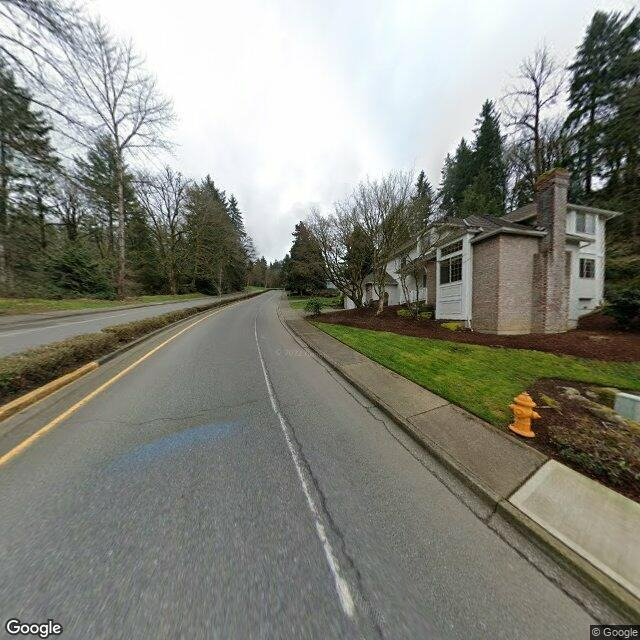hydrant: (502, 380, 543, 445)
